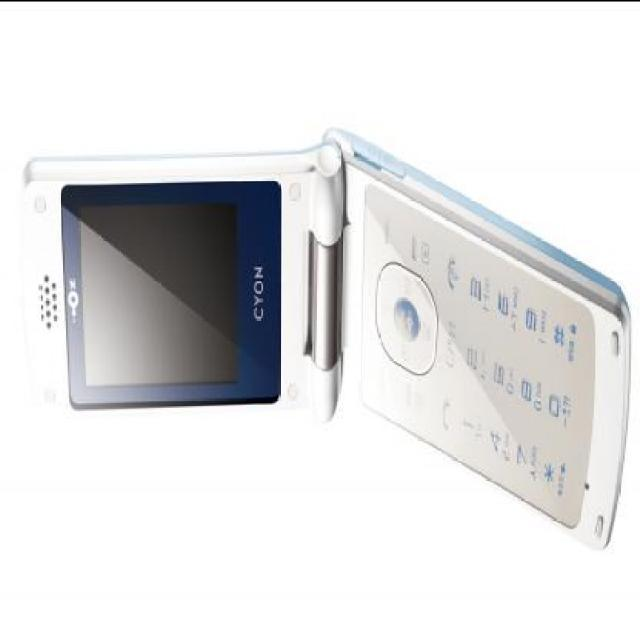phone: (15, 123, 631, 549)
